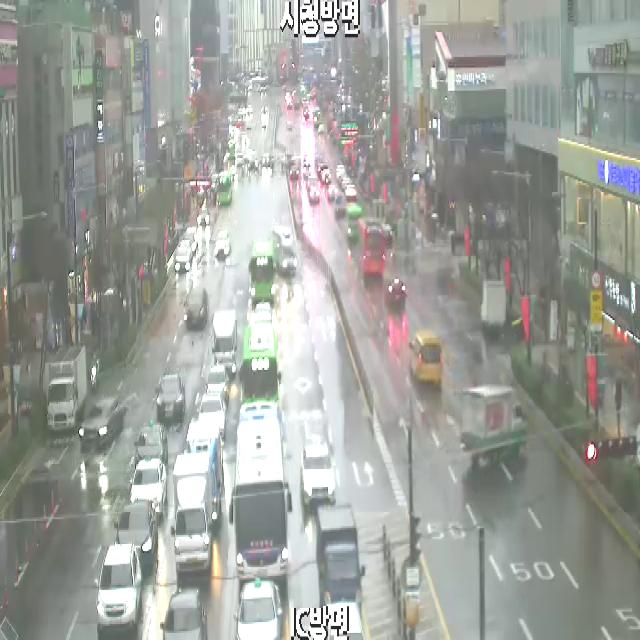Bus: (229, 402, 292, 589), (241, 321, 281, 405), (249, 242, 276, 308), (358, 219, 385, 279), (215, 174, 232, 206), (347, 206, 362, 242)
Car: (94, 546, 142, 634), (114, 498, 158, 574), (233, 578, 282, 640), (300, 443, 336, 511), (160, 587, 206, 640), (78, 397, 124, 448), (130, 456, 166, 520), (409, 332, 443, 387), (135, 420, 168, 470), (196, 393, 226, 442), (156, 374, 185, 419), (184, 286, 208, 328), (205, 366, 229, 402), (385, 277, 408, 305), (214, 231, 232, 258), (174, 248, 190, 272), (381, 221, 394, 247), (334, 193, 346, 217), (179, 240, 193, 260), (186, 228, 198, 248), (197, 208, 210, 226), (326, 184, 338, 202), (339, 176, 352, 191), (310, 185, 320, 204), (248, 156, 259, 173), (345, 185, 356, 200), (322, 169, 332, 185), (290, 164, 299, 180), (303, 161, 311, 177), (318, 163, 327, 177), (336, 166, 346, 178)
Truck: (317, 501, 366, 619), (170, 455, 212, 582), (462, 386, 528, 466), (184, 422, 224, 520), (47, 346, 86, 432), (212, 309, 236, 378), (479, 281, 506, 334), (272, 228, 298, 274)
